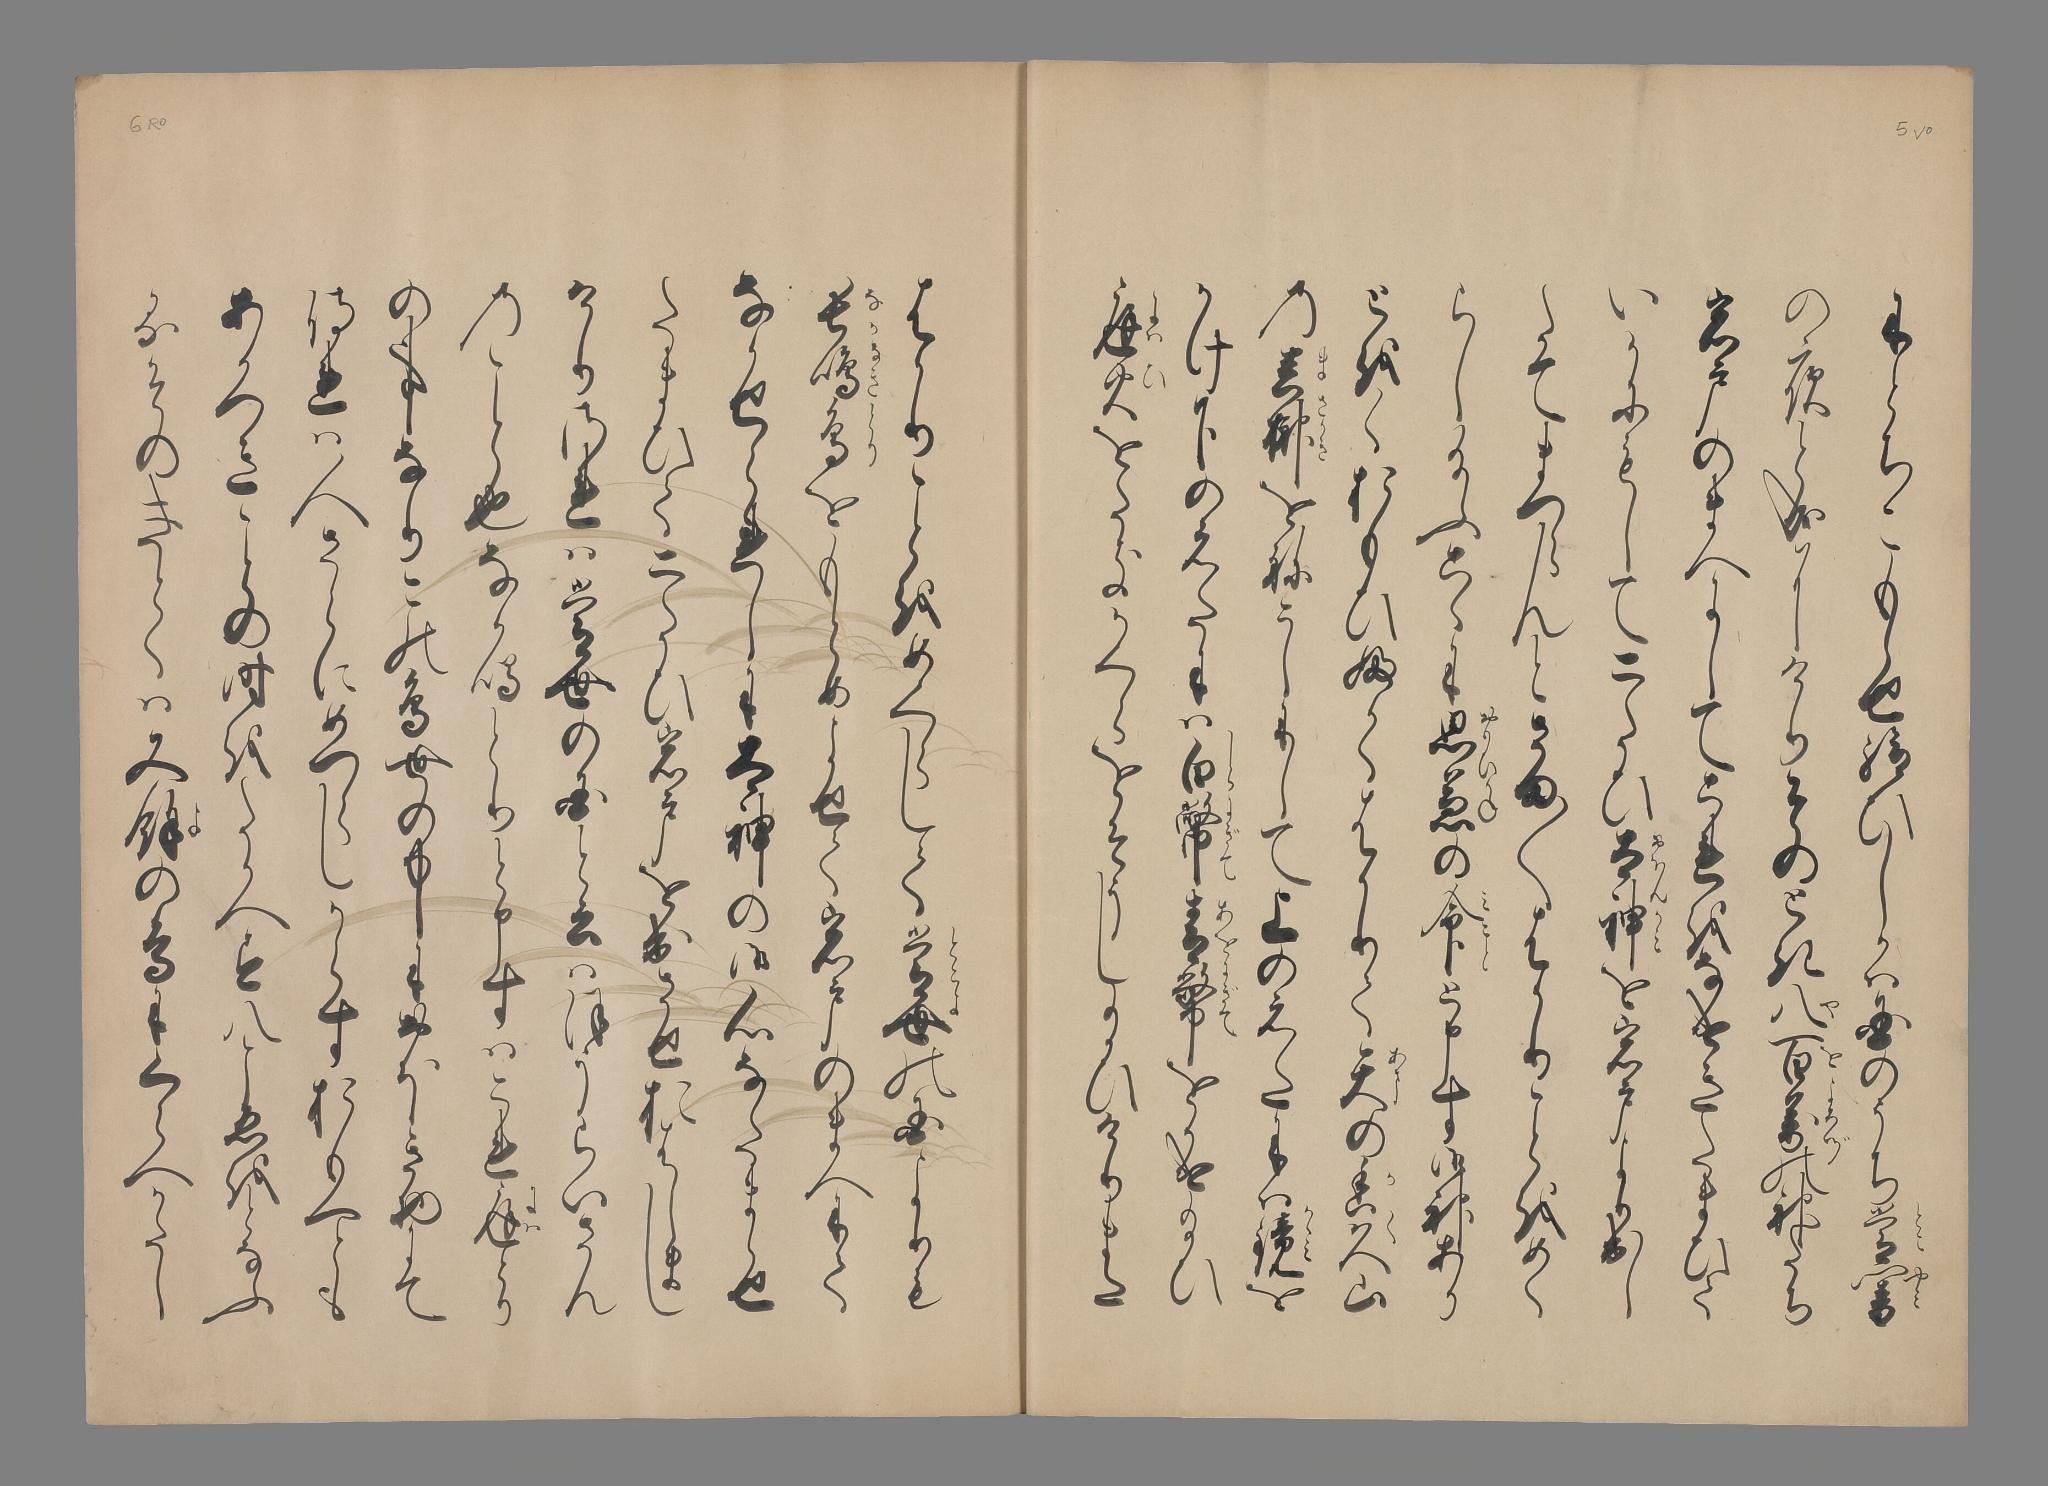MainZone-Character: (1422, 885, 1501, 982), (1092, 284, 1178, 362), (1261, 393, 1337, 480), (119, 785, 204, 863), (1172, 796, 1243, 882), (1849, 1265, 1938, 1333), (1779, 1079, 1851, 1163), (1172, 965, 1239, 1054), (1428, 707, 1506, 779), (474, 1179, 550, 1251), (892, 920, 967, 992), (1428, 774, 1506, 841), (808, 334, 886, 401), (1175, 885, 1240, 965), (1601, 830, 1671, 903), (1094, 362, 1170, 428), (1170, 728, 1245, 793), (882, 989, 964, 1047), (1253, 1208, 1317, 1283), (811, 275, 886, 339), (816, 401, 882, 467), (1337, 1044, 1406, 1108), (1600, 903, 1670, 965), (1337, 1213, 1402, 1276), (1862, 1203, 1930, 1263), (1762, 984, 1841, 1033), (1770, 1033, 1851, 1081), (1267, 343, 1340, 394), (1345, 1160, 1401, 1216)
MainZone-Ruby: (1215, 798, 1245, 885), (1819, 1082, 1849, 1167), (854, 401, 884, 474), (1143, 291, 1175, 358), (1477, 707, 1506, 779), (1215, 969, 1242, 1043), (1477, 890, 1498, 979), (1380, 1041, 1407, 1108), (1213, 896, 1239, 965), (941, 925, 967, 992), (1646, 830, 1668, 903), (1310, 393, 1332, 466), (1472, 776, 1503, 826), (859, 281, 886, 334), (1911, 1198, 1932, 1265), (1220, 733, 1242, 795), (863, 342, 887, 399), (520, 1187, 545, 1238), (1135, 361, 1170, 396), (186, 798, 210, 849), (1301, 1206, 1318, 1270), (1905, 1268, 1930, 1311), (1382, 1211, 1407, 1251), (1821, 1043, 1848, 1073), (1649, 906, 1665, 954), (1819, 990, 1841, 1024), (1313, 348, 1332, 383), (946, 995, 965, 1027), (1382, 1165, 1399, 1195)
